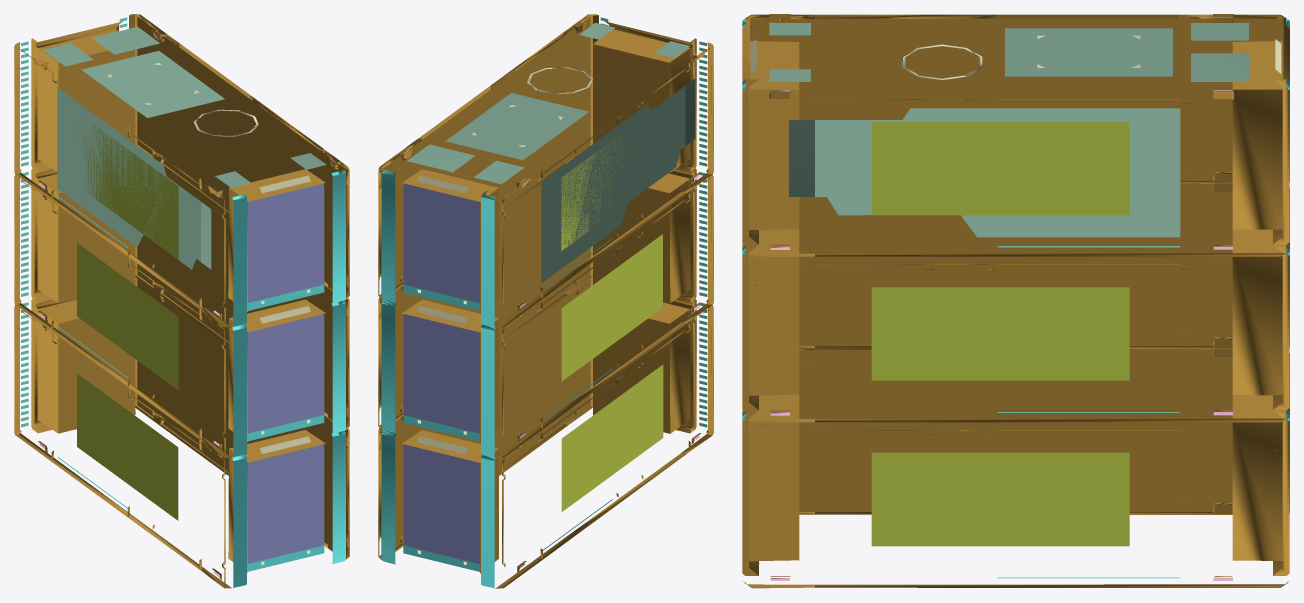
Rendered from storage_container_stack_1_b_lod2.glb.
3 renders of one model, left to right at view 1: azimuth 30°, elevation 25°; view 2: azimuth 150°, elevation 25°; view 3: azimuth 270°, elevation 25°, orthographic. The views are drawn at different scales.
Bounding box in the file's own units: 2.51 × 7.53 × 7.5.
